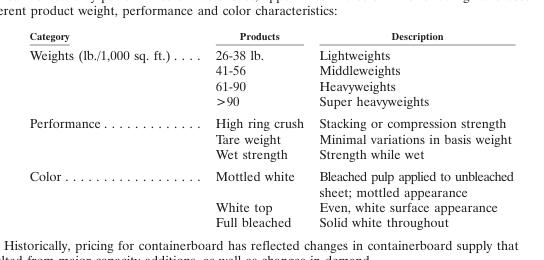table: (28, 29, 512, 229)
table column: (310, 29, 512, 229), (28, 29, 192, 229), (192, 29, 310, 229)
table column header: (28, 29, 512, 44)
table row: (28, 44, 512, 111), (28, 111, 512, 164), (28, 164, 512, 198), (28, 213, 512, 229), (28, 29, 512, 44), (28, 198, 512, 213)
table spanning cell: (28, 164, 192, 229)
